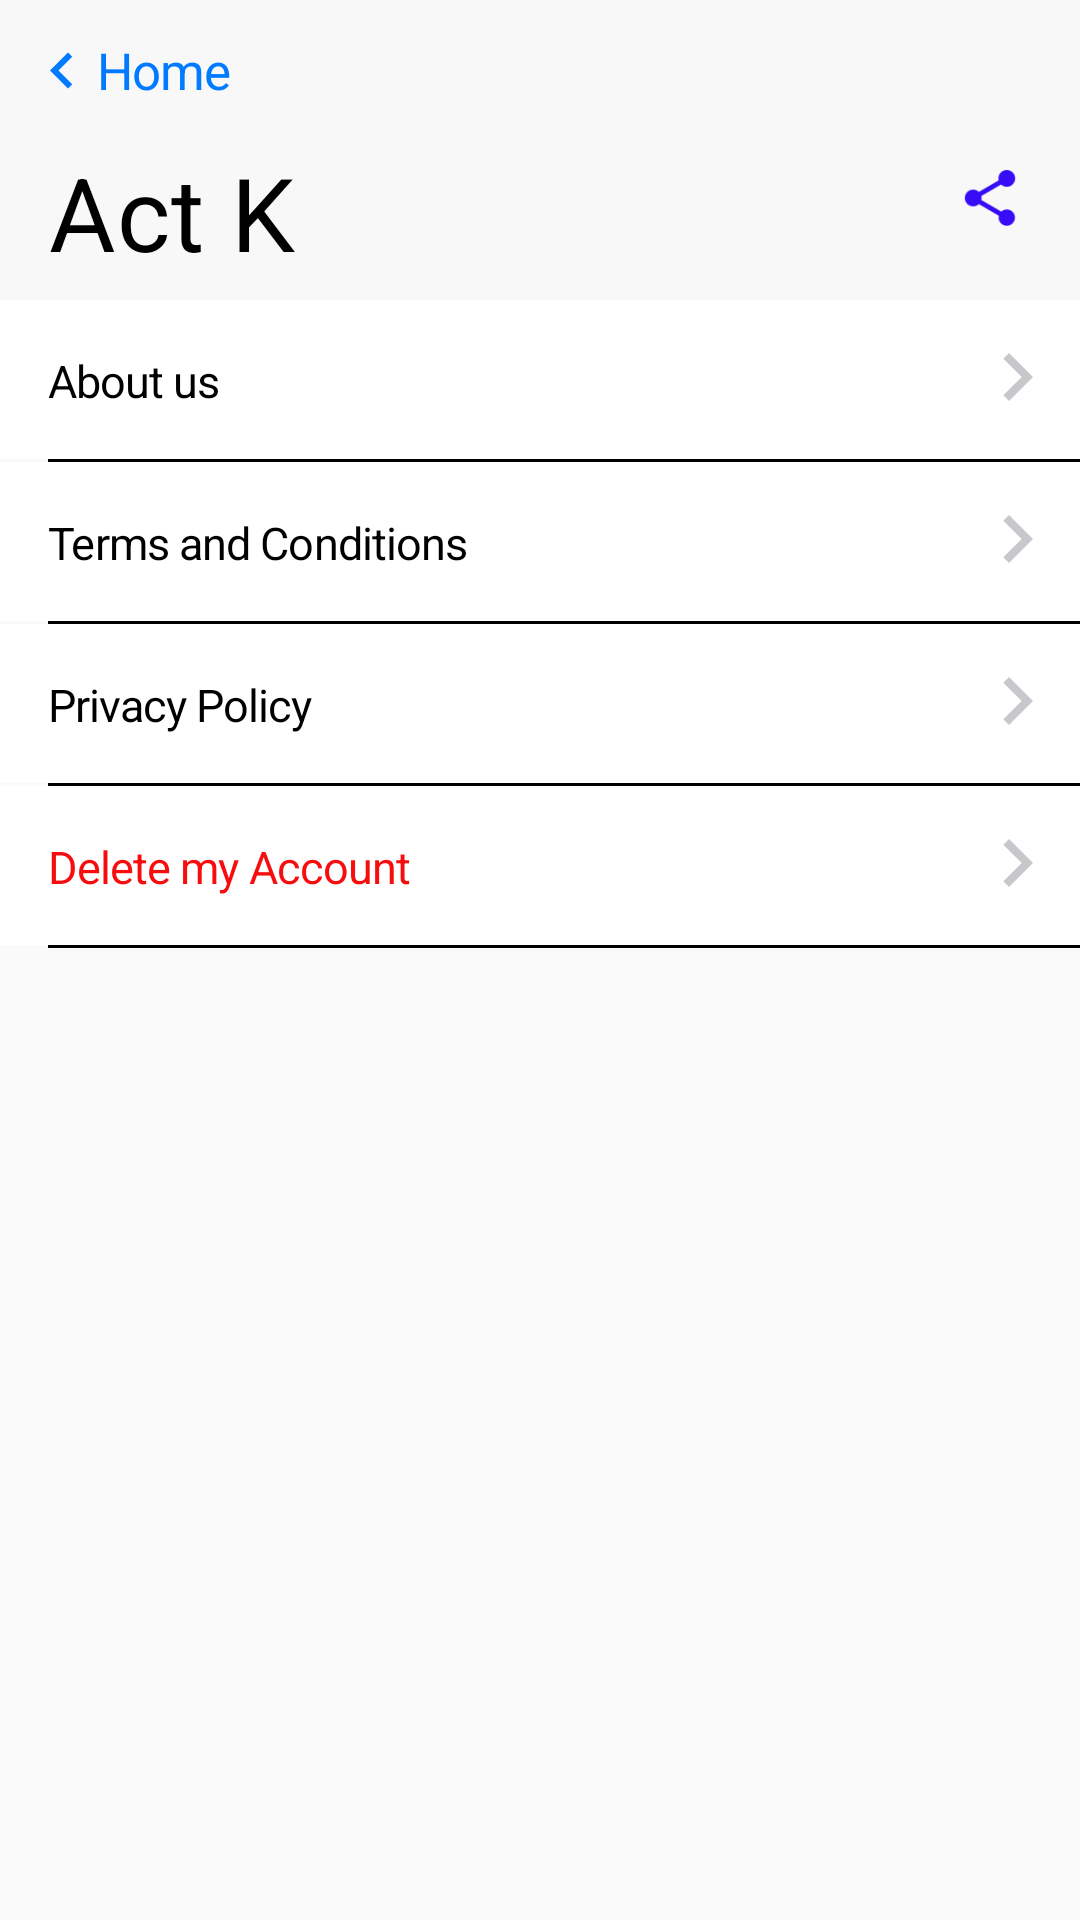

Where icons sit on this 1080×1920 app screen, as (x1, y1, x2, y2):
back: (50, 52, 72, 89)
right: (1004, 353, 1033, 401), (1004, 515, 1033, 563), (1004, 677, 1033, 725), (1004, 839, 1033, 887)
share: (964, 170, 1016, 226)
